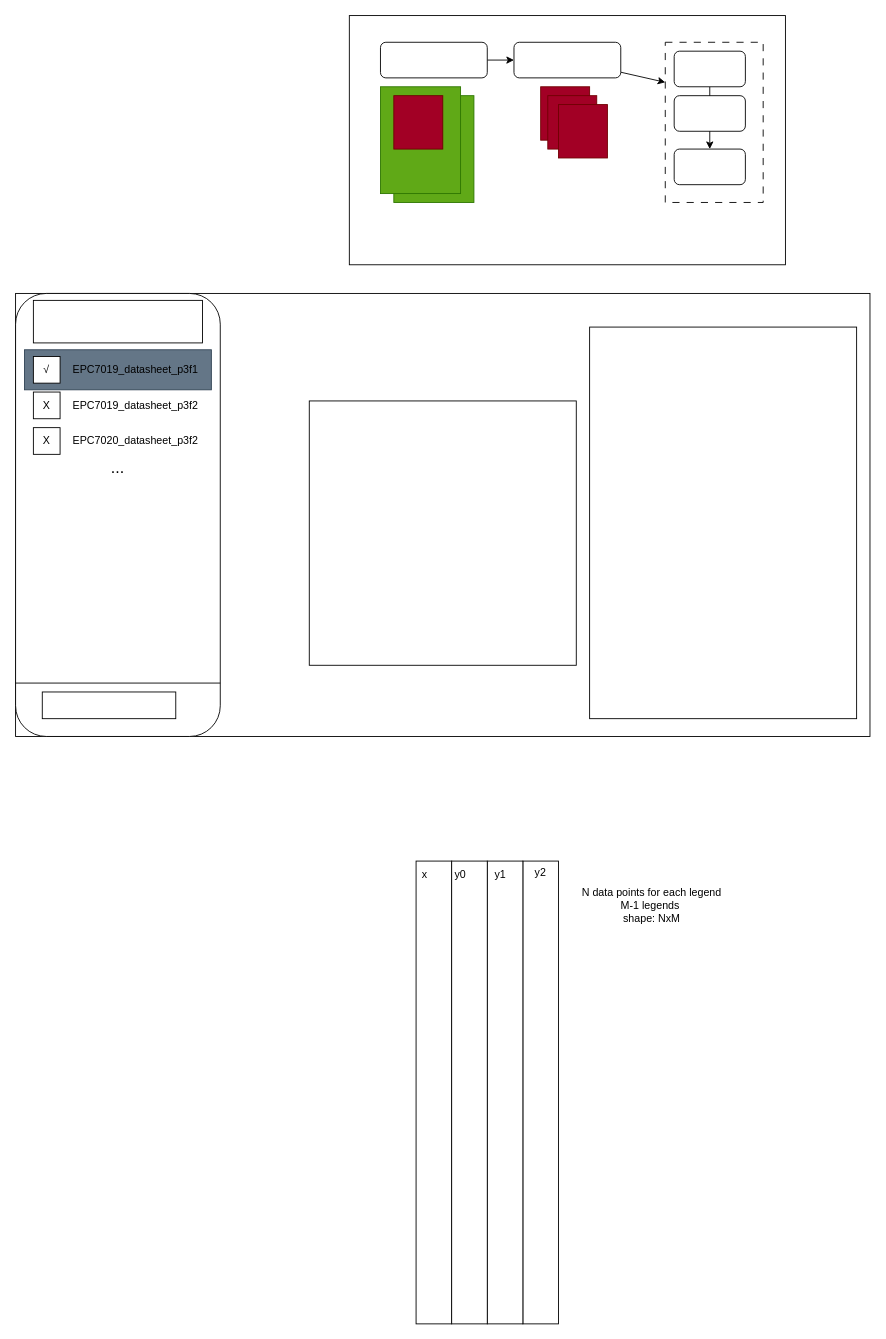
Image size: 886x1339. Some labels were removed from this diagram. The shapes that lost their labels are listed below. From the top down, each one's centre as x and y in pixels, then its label:
At point (117, 321): "C:\Users\11275\Downloads\ data_extracted\data_extracted".
At point (442, 532): "extracted data plot in html".
At point (723, 522): "pdf preview with specific page turned to".
At point (108, 705): "Confirm on all annotation".
